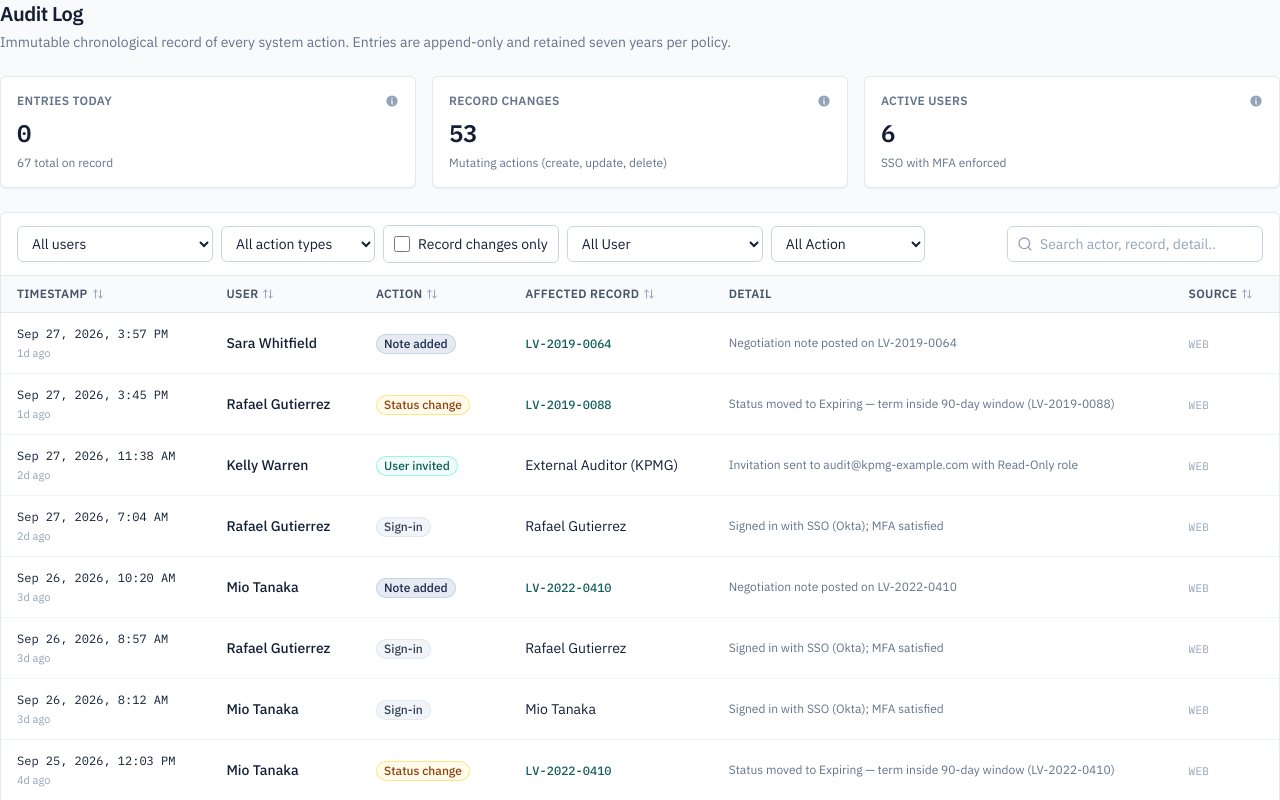
Test: AuditLogView › searches across actor, record, and detail
Type "retention window" into the search field named "Search entries". click: (1135, 244)
box: x1=1007 y1=226 x2=1263 y2=262
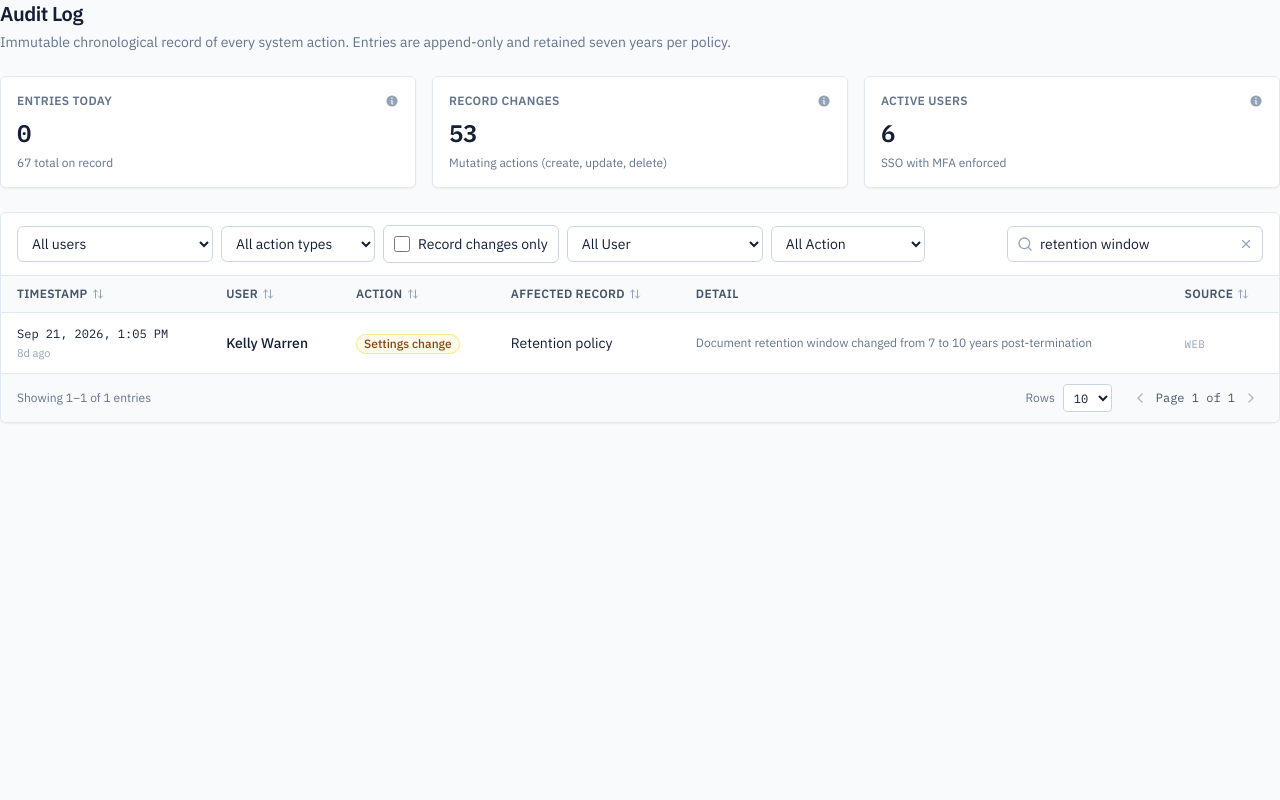
Expected: the row that starts with "Sep 21, 2026, 1:05 PM" shows "retention window", x1=696 y1=335 x2=1092 y2=350
